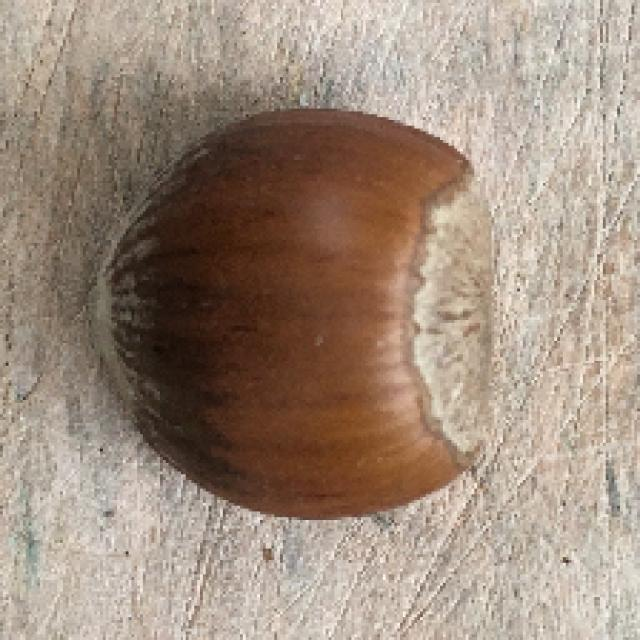qualityHazelnut: (88, 106, 519, 519)
